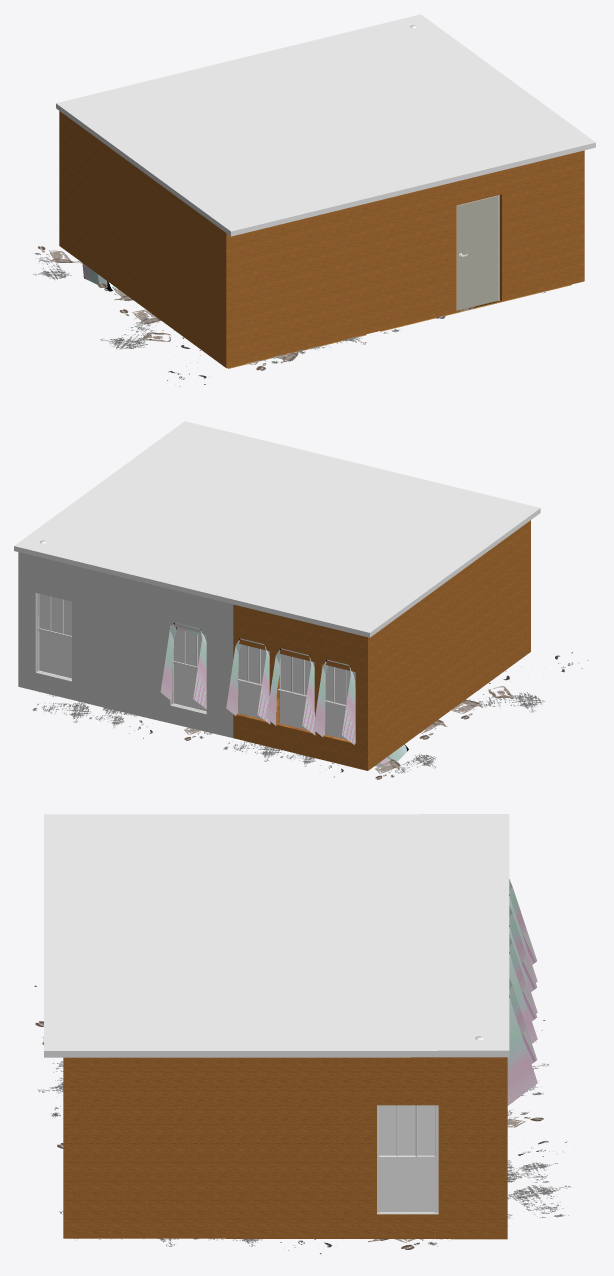
Rendered from FloorPlan224_physics.fbx.
The picture shows the model from 3 angles, top to bottom: view 1: azimuth 30°, elevation 25°; view 2: azimuth 150°, elevation 25°; view 3: azimuth 270°, elevation 25°; orthographic projection. The views are drawn at different scales.
Parts seen in each view (by area): view 1: FP224:Cube.1148, FP224:polySurface38, FP224:Door.012, FP224:Decals.005, FP224:Decals.007, FP224:polySurface1; view 2: FP224:Cube.1148, FP224:polySurface38, FP224:Baseboard.018, FP224:polySurface33, FP224:polySurface14, FP224:polySurface10, FP224:polySurface12, FP224:polySurface16, FP224:Decals.005, FP224:Decals.007, FP224:Decals.002, FP224:polySurface25 (+1 smaller); view 3: FP224:Cube.1148, FP224:polySurface38, FP224:polySurface8, FP224:Baseboard.018, FP224:Decals.002, FP224:polySurface32.
Boxes of the visible parts, x1,y1,x2,y2 form: FP224:Cube.1148: (56, 14, 595, 236); FP224:polySurface38: (59, 111, 584, 368); FP224:Door.012: (457, 195, 498, 310); FP224:Decals.005: (98, 283, 284, 386); FP224:Decals.007: (33, 246, 81, 280); FP224:polySurface1: (227, 284, 571, 368); FP224:Cube.1148: (14, 421, 540, 637); FP224:polySurface38: (18, 520, 530, 770); FP224:Baseboard.018: (160, 622, 408, 766); FP224:polySurface33: (39, 593, 71, 678); FP224:polySurface14: (280, 654, 314, 730); FP224:polySurface10: (173, 629, 206, 711); FP224:polySurface12: (238, 644, 269, 719); FP224:polySurface16: (325, 665, 355, 740); FP224:Decals.005: (419, 652, 587, 739); FP224:Decals.007: (223, 741, 436, 779); FP224:Decals.002: (32, 694, 211, 740); FP224:polySurface25: (37, 593, 71, 679); FP224:Cube.1148: (44, 814, 509, 1057); FP224:polySurface38: (63, 1057, 507, 1239); FP224:polySurface8: (379, 1105, 434, 1211); FP224:Baseboard.018: (507, 879, 537, 1105); FP224:Decals.002: (368, 1109, 571, 1242); FP224:polySurface32: (377, 1105, 438, 1212).
Size of the model in its own units: 944 by 312 by 767.
